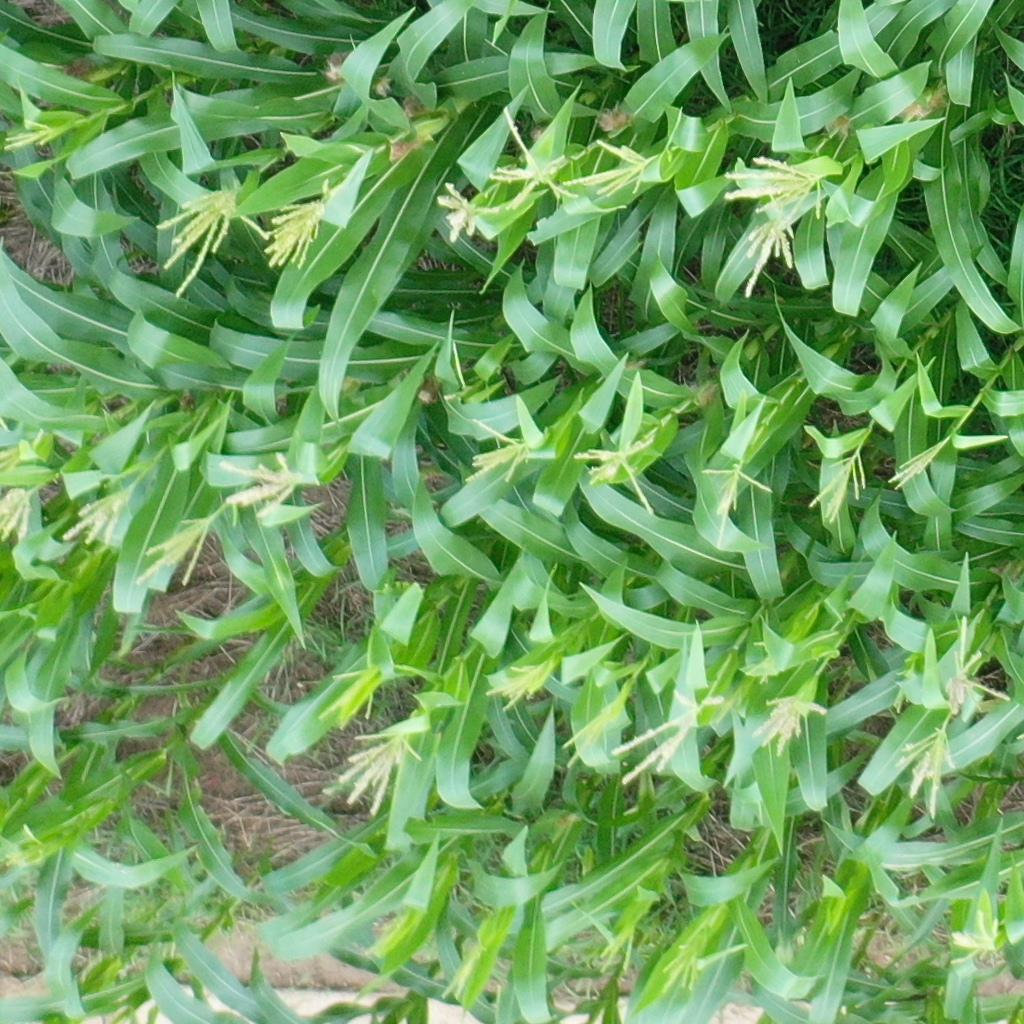Tassel: (143, 184, 271, 297), (490, 101, 582, 212), (618, 685, 714, 784), (329, 728, 426, 820), (716, 148, 830, 222), (561, 126, 662, 204), (574, 431, 663, 516), (944, 611, 1009, 720), (211, 456, 315, 524), (133, 513, 223, 589), (893, 719, 957, 823), (463, 410, 550, 486), (267, 184, 336, 272), (739, 206, 799, 301), (429, 179, 514, 246), (754, 690, 830, 761), (560, 698, 629, 769), (695, 454, 775, 515), (806, 446, 869, 523), (58, 486, 134, 549), (314, 659, 378, 733), (888, 429, 955, 497), (483, 653, 558, 713), (946, 904, 1002, 966), (654, 936, 708, 996), (1, 479, 39, 547), (441, 946, 478, 1010), (1, 425, 44, 478), (1, 820, 46, 869), (593, 925, 640, 971), (1, 115, 56, 153), (744, 638, 784, 689)
